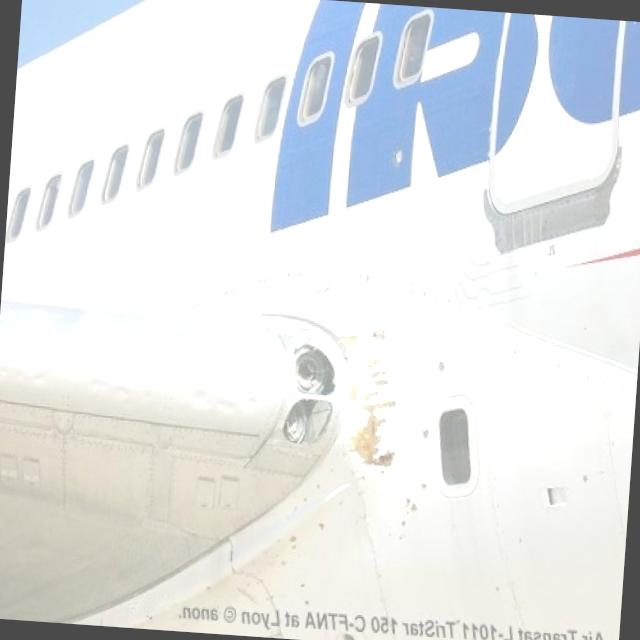dent: (0, 356, 260, 419)
